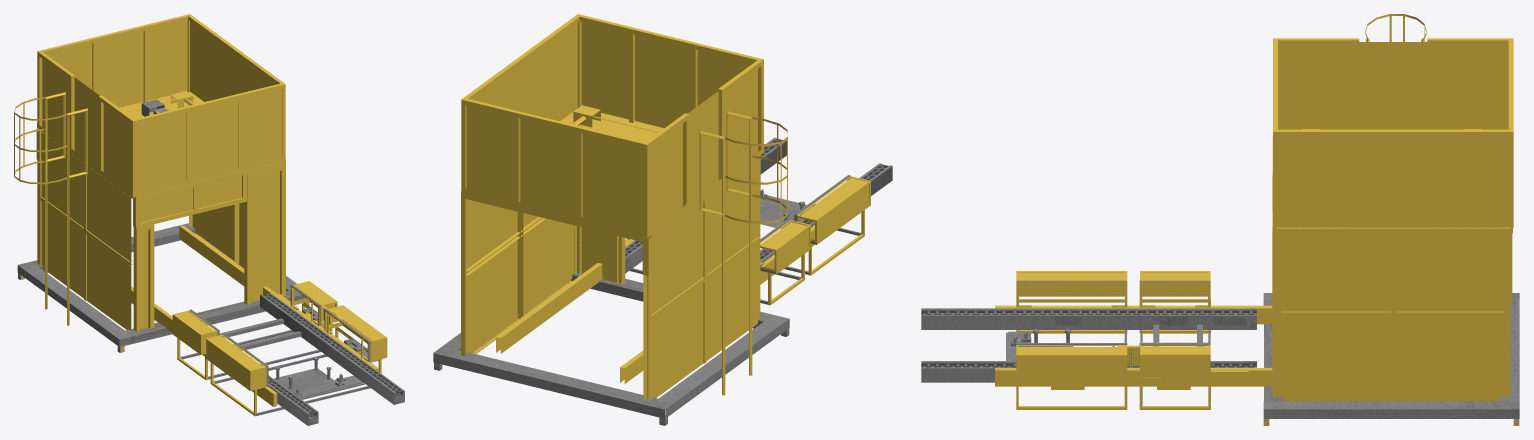
Rendered from liushui7.FBX.
The picture shows the model from 3 angles, left to right: view 1: azimuth 30°, elevation 25°; view 2: azimuth 150°, elevation 25°; view 3: azimuth 270°, elevation 25°; orthographic projection. The views are drawn at different scales.
Parts seen in each view (by area): view 1: YF_Molel_liushui7; view 2: YF_Molel_liushui7; view 3: YF_Molel_liushui7.
Part boxes in pixels (bbox=[...]): YF_Molel_liushui7: bbox=[14, 14, 404, 425]; YF_Molel_liushui7: bbox=[433, 14, 892, 425]; YF_Molel_liushui7: bbox=[921, 14, 1519, 425].
Size of the model in its own units: 240 by 215 by 413.
Materials: 1 (1 with a texture image).
